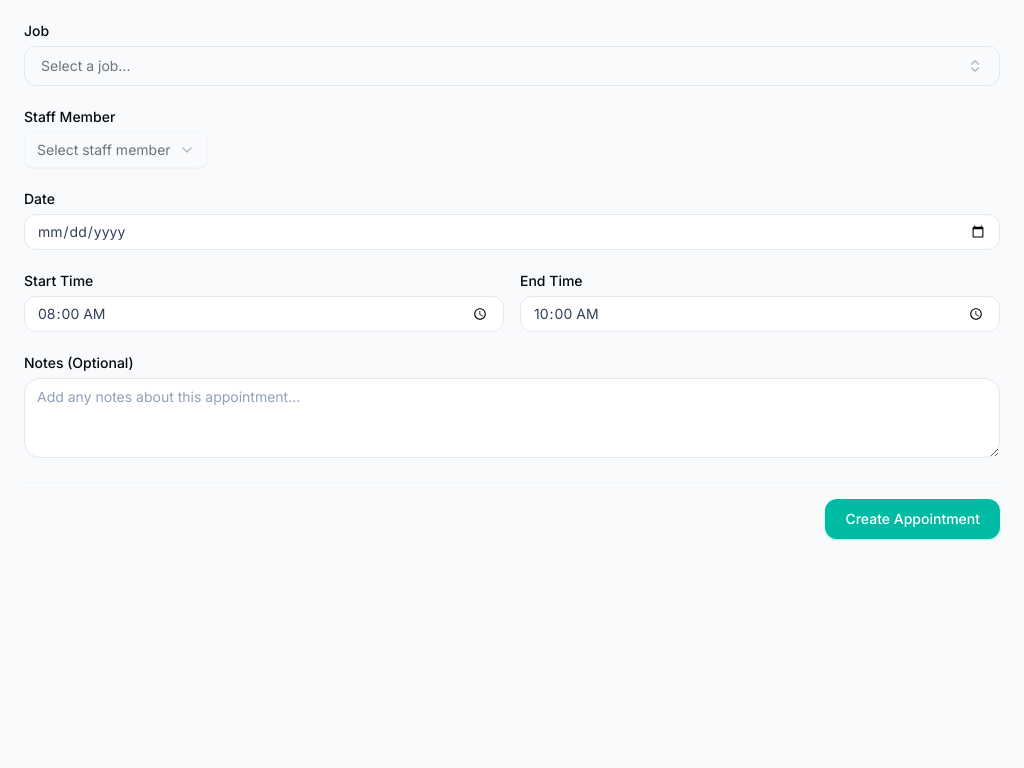
Test: AppointmentForm › shows validation error for missing job
The image size is (1024, 768).
Note: Fill required fields except job
In the date field with test id "date-input": (512, 232) x1=24 y1=214 x2=1000 y2=250, type "2025-01-25"
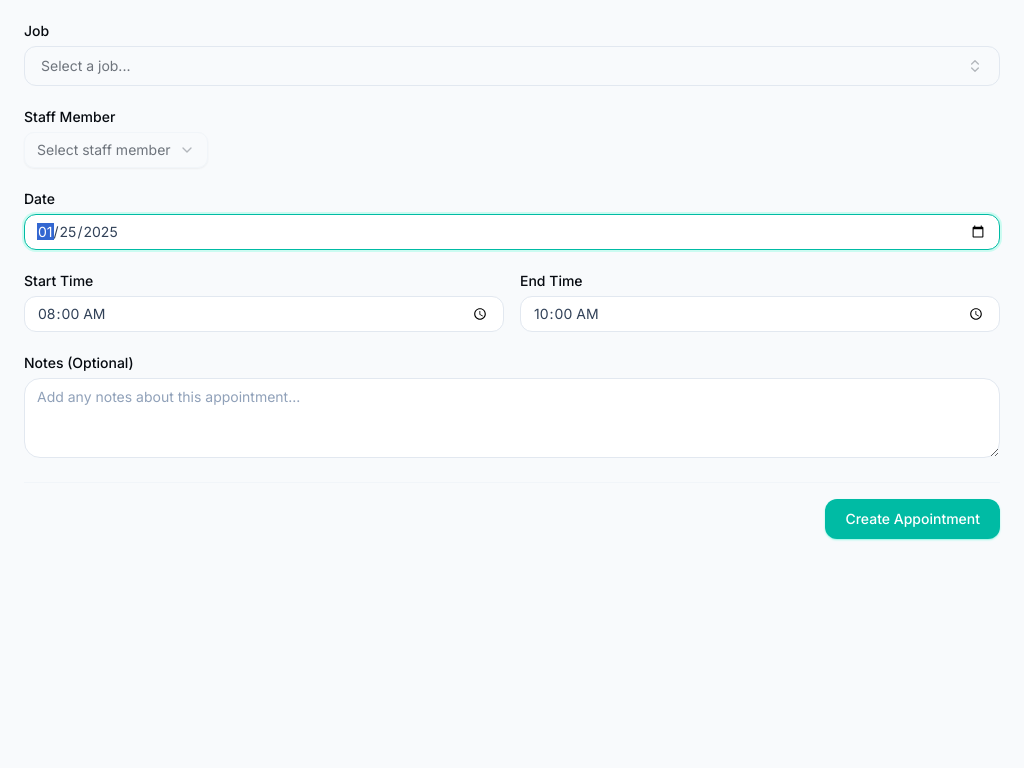
Click the button with test id "submit-btn": (913, 519) x1=825 y1=499 x2=1000 y2=539
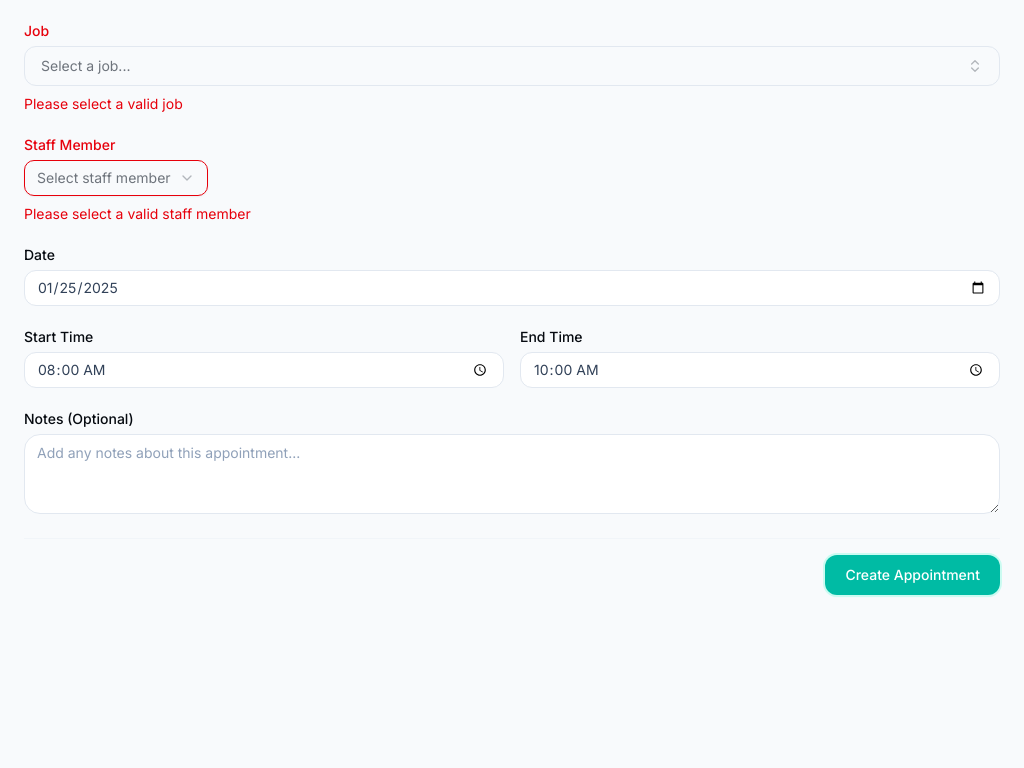
Expected: the text "Please select a valid job" is shown, x1=24 y1=95 x2=183 y2=112
